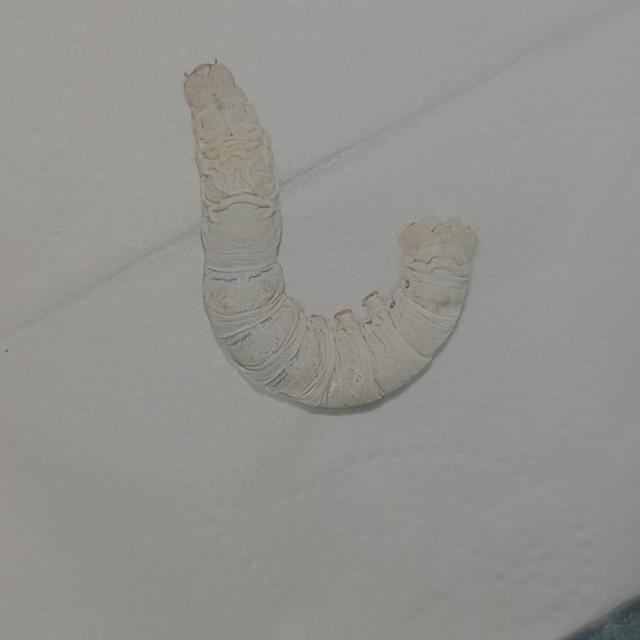Healthy: (172, 50, 480, 421)
